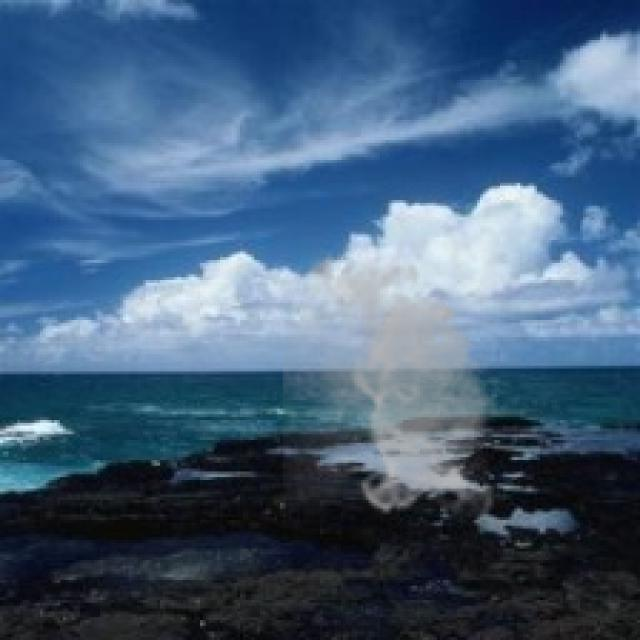Smoke: (283, 245, 506, 518)
